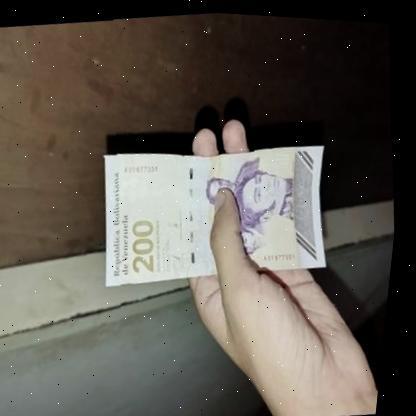vef_front: (95, 127, 344, 296)
